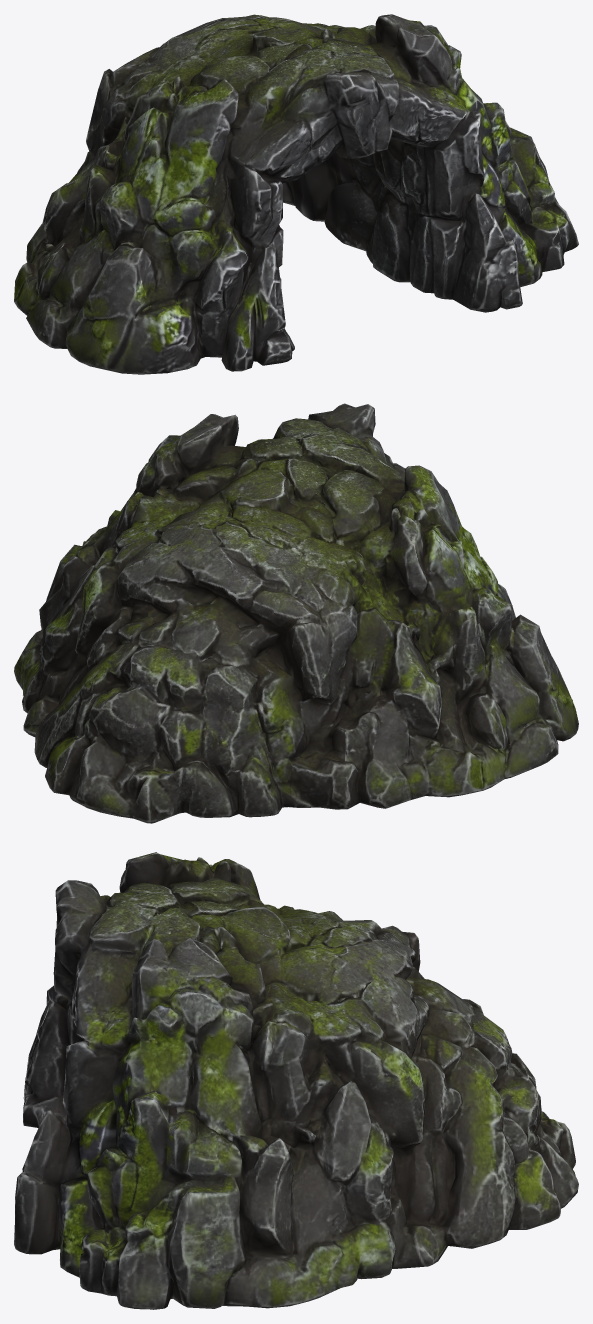
The model's file is CaveEntrance (2).fbx.
3 renders of one model, top to bottom at view 1: azimuth 30°, elevation 25°; view 2: azimuth 150°, elevation 25°; view 3: azimuth 270°, elevation 25°, orthographic. The views are drawn at different scales.
Visible parts, largest first — view 1: mesh_node; view 2: mesh_node; view 3: mesh_node.
Boxes of the visible parts, box(x1,y1,x2,y2) form: mesh_node: box(14, 14, 578, 374); mesh_node: box(14, 403, 578, 823); mesh_node: box(14, 852, 578, 1309).
Size of the model in its own units: 1.98 by 0.9557 by 1.7.
